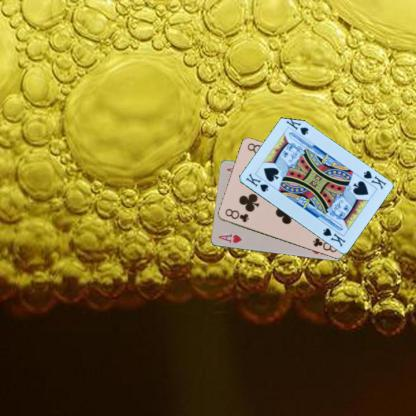8c: (223, 206, 250, 224)
Ah: (216, 231, 243, 245)
Ks: (243, 170, 269, 194), (361, 168, 387, 191)
